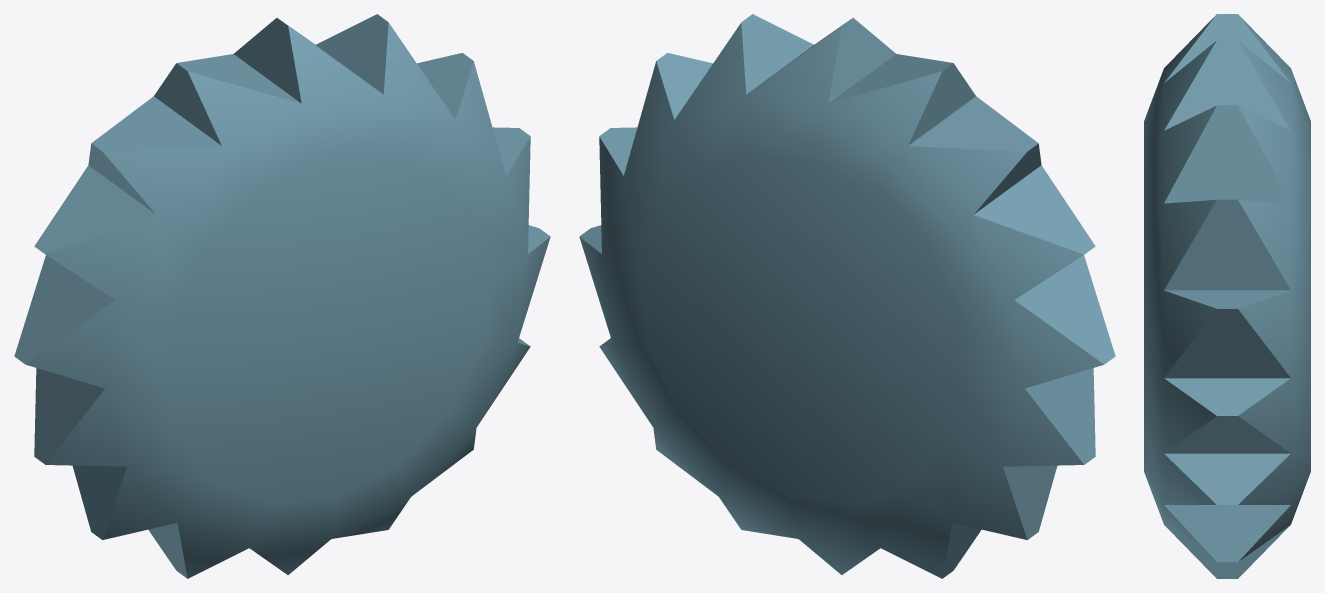
Rendered from M_Sawblade_1.glb.
3 renders of one model, left to right at view 1: azimuth 30°, elevation 25°; view 2: azimuth 150°, elevation 25°; view 3: azimuth 270°, elevation 25°, orthographic. The views are drawn at different scales.
Parts seen in each view (by area): view 1: SawBlade; view 2: SawBlade; view 3: SawBlade.
Boxes of the visible parts, x1,y1,x2,y2 form: SawBlade: (14,14,550,578); SawBlade: (579,14,1115,578); SawBlade: (1144,14,1310,578).
Size of the model in its own units: 1.2 by 1.2 by 0.3541.
